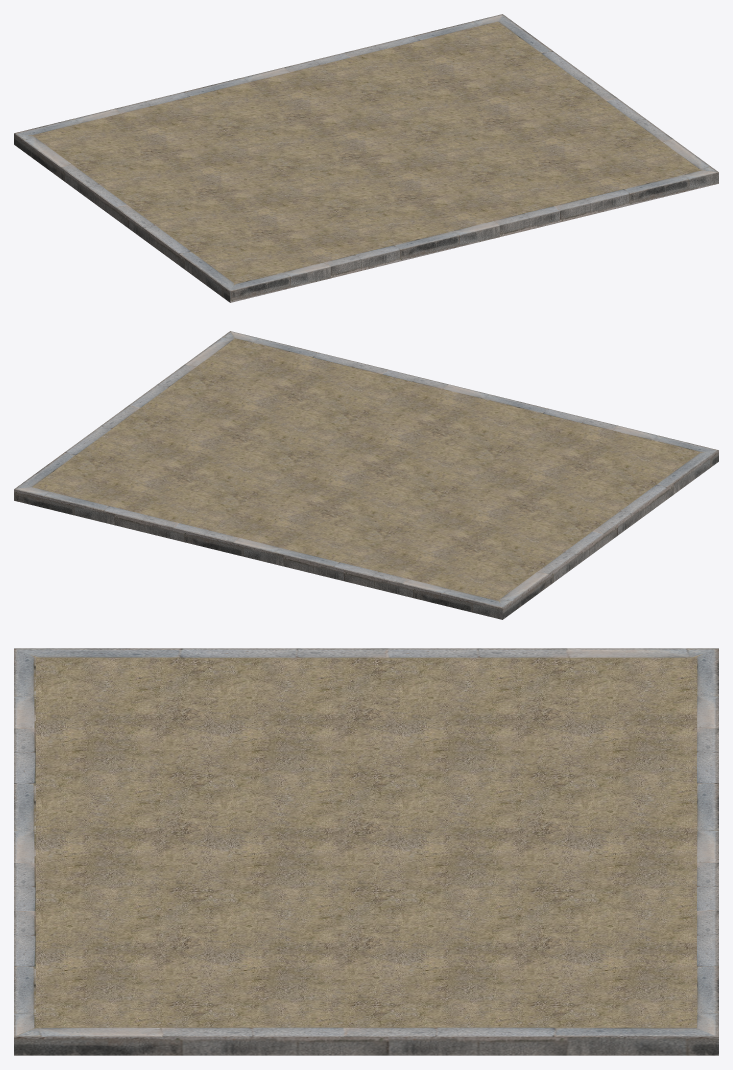
File: SM_Sun_Bul_Kidan.fbx
3 renders of one model, top to bottom at view 1: azimuth 30°, elevation 25°; view 2: azimuth 150°, elevation 25°; view 3: azimuth 270°, elevation 25°, orthographic. The views are drawn at different scales.
Visible parts, largest first — view 1: SM_Sun_Bul_Kidan; view 2: SM_Sun_Bul_Kidan; view 3: SM_Sun_Bul_Kidan.
Part boxes in pixels (x1,y1,x2,y2): SM_Sun_Bul_Kidan: (14,14,718,302); SM_Sun_Bul_Kidan: (14,331,718,619); SM_Sun_Bul_Kidan: (14,648,718,1055).
Bounding box in the file's own units: 1347 × 30.1 × 1033.
